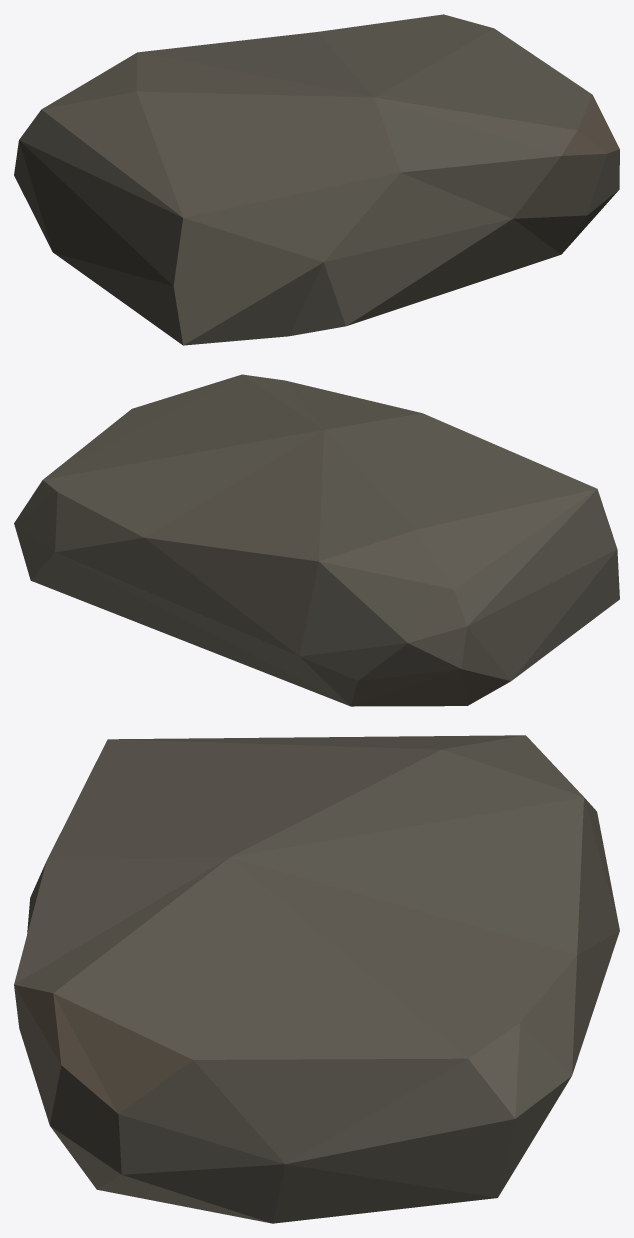
Rendered from synty-prop-brick-02.gltf.
3 renders of one model, top to bottom at view 1: azimuth 30°, elevation 25°; view 2: azimuth 150°, elevation 25°; view 3: azimuth 270°, elevation 25°, orthographic. The views are drawn at different scales.
Visible parts, largest first — view 1: SM_Prop_Brick_02; view 2: SM_Prop_Brick_02; view 3: SM_Prop_Brick_02.
Part boxes in pixels (box(x1,y1,x2,y2)): SM_Prop_Brick_02: box(14, 14, 619, 345); SM_Prop_Brick_02: box(14, 374, 619, 706); SM_Prop_Brick_02: box(14, 735, 619, 1223).
Bounding box in the file's own units: 0.5225 × 0.1705 × 0.3946.
1 material, 1 textured.
